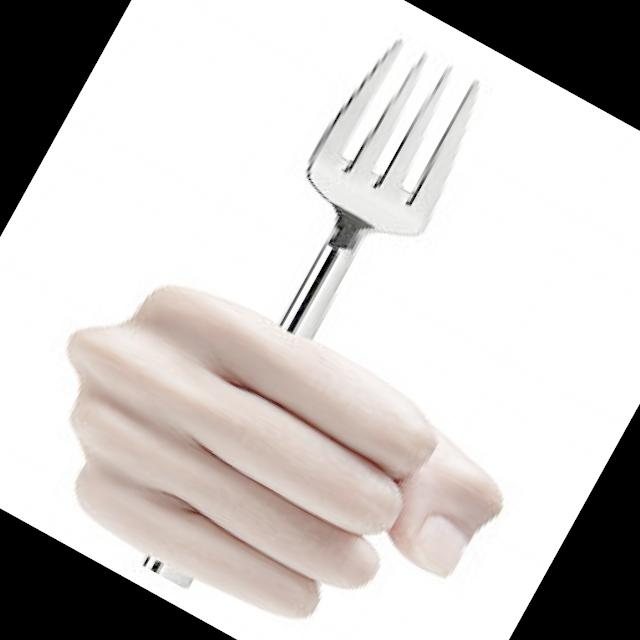fork: (91, 18, 507, 610)
